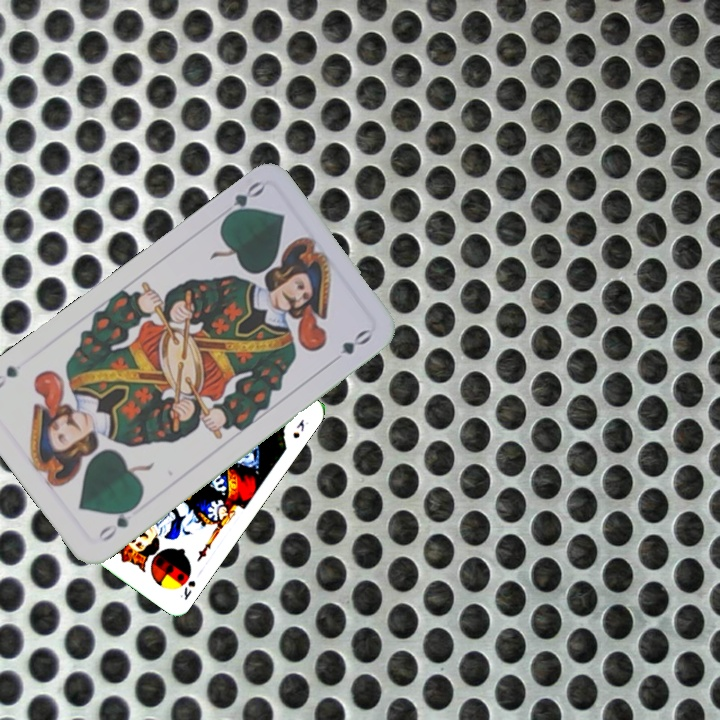GO: (218, 177, 267, 224), (93, 500, 140, 545)
SK: (176, 576, 198, 603)
